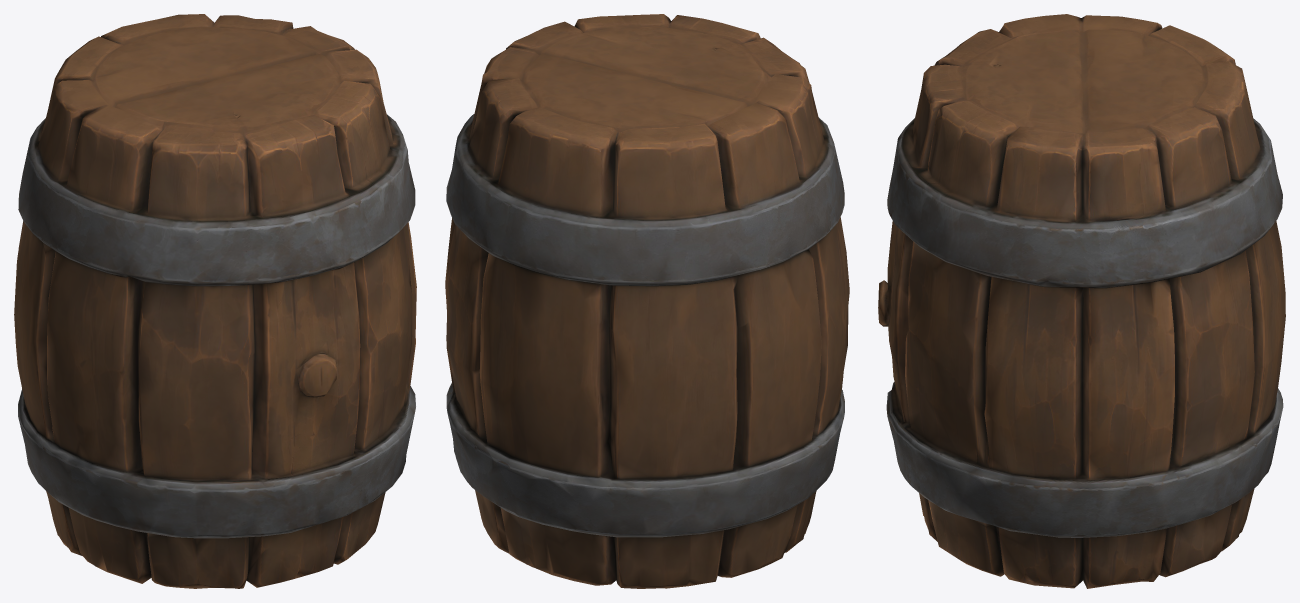
The model's file is decor-barrel-tripo-3f7a258f-smartuv-tex2k-pbr.glb.
The picture shows the model from 3 angles, left to right: view 1: azimuth 30°, elevation 25°; view 2: azimuth 150°, elevation 25°; view 3: azimuth 270°, elevation 25°; orthographic projection.
Visible parts, largest first — view 1: tripo_node_eda72a47-8d18-4031-9e06-2c061ab998d8; view 2: tripo_node_eda72a47-8d18-4031-9e06-2c061ab998d8; view 3: tripo_node_eda72a47-8d18-4031-9e06-2c061ab998d8.
Part boxes in pixels (x1,y1,x2,y2): tripo_node_eda72a47-8d18-4031-9e06-2c061ab998d8: [14, 14, 416, 588]; tripo_node_eda72a47-8d18-4031-9e06-2c061ab998d8: [445, 14, 849, 588]; tripo_node_eda72a47-8d18-4031-9e06-2c061ab998d8: [878, 14, 1285, 588].
Size of the model in its own units: 0.8047 by 0.9797 by 0.807.
Materials: 1 (1 with a texture image).
